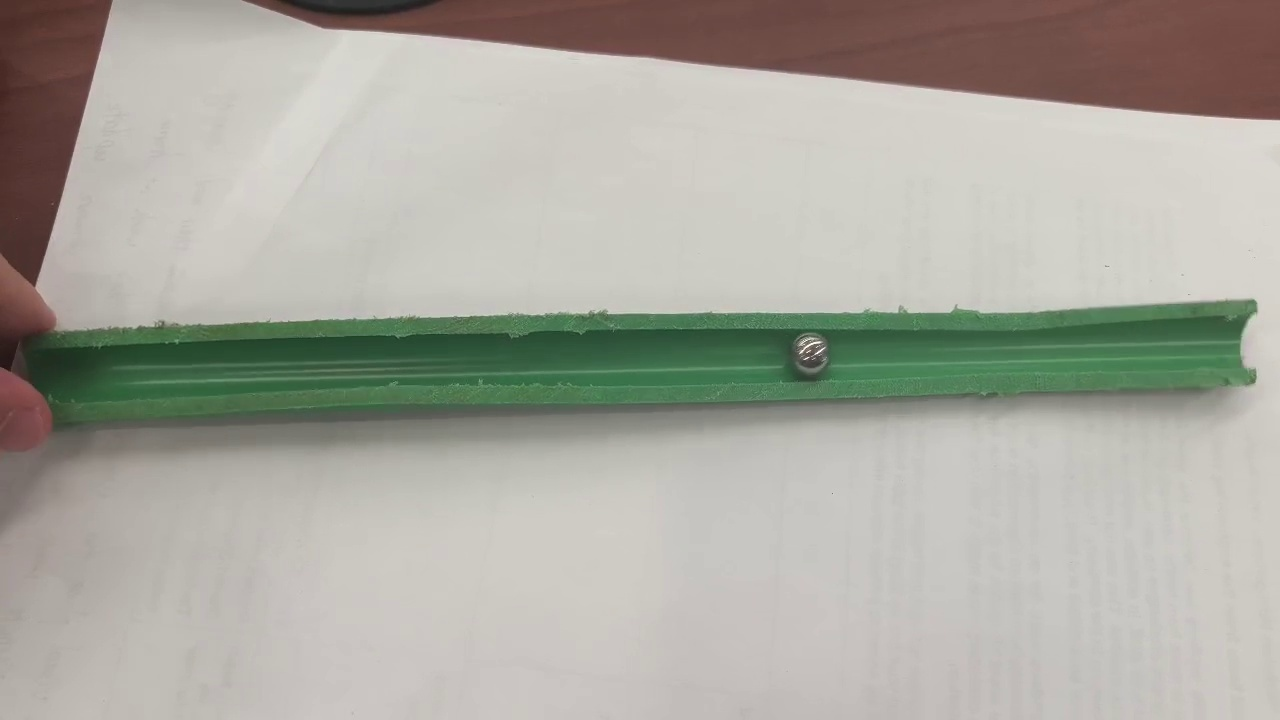ball: (793, 336, 828, 375)
